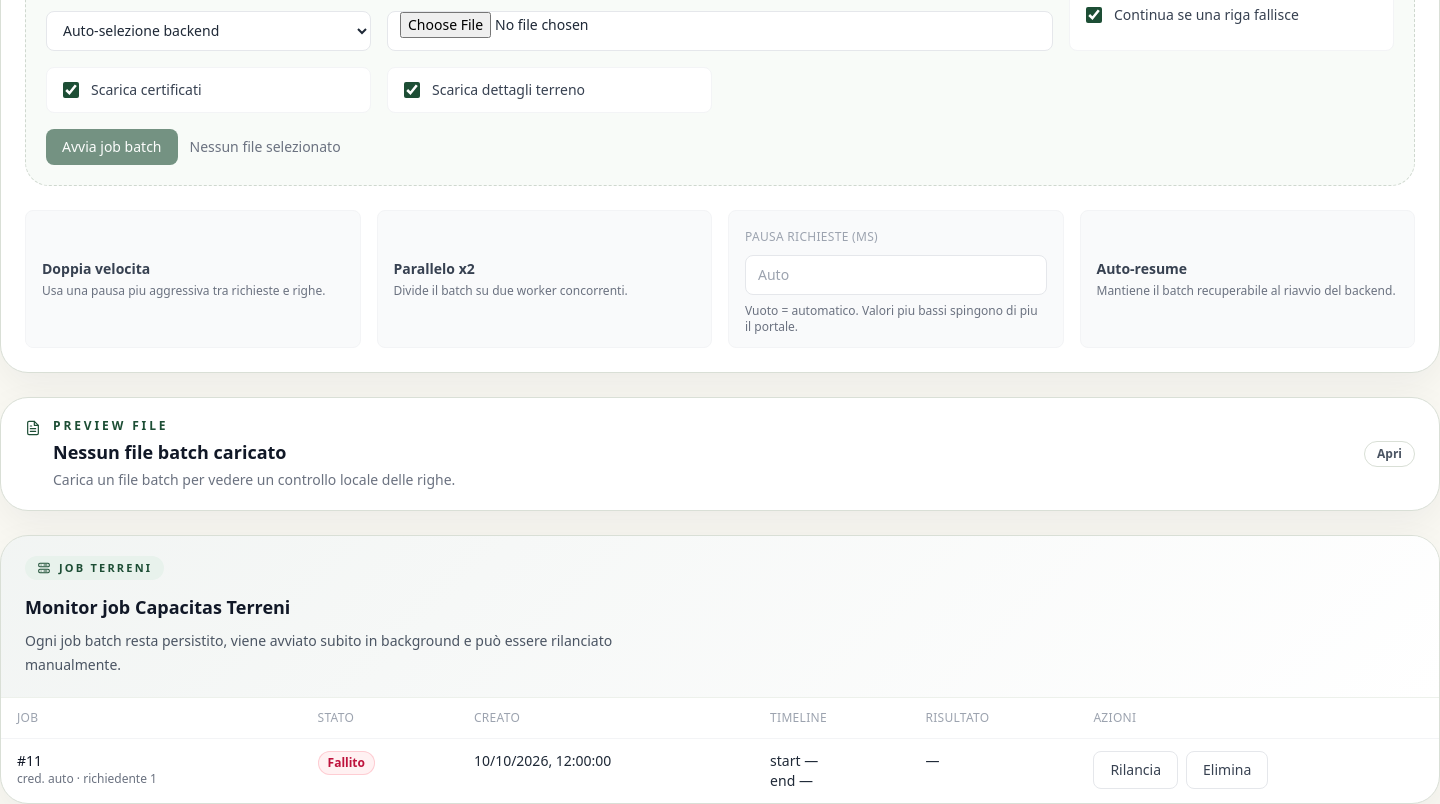
R21 public terreni action presentation › remove reads the retained API job ID at click time, not render time
(page scrolled)
Expected: the button "Rilancia" is enabled, x1=1093 y1=751 x2=1178 y2=789
Click the button "Elimina".
click(1227, 770)  # box x1=1186 y1=751 x2=1268 y2=789
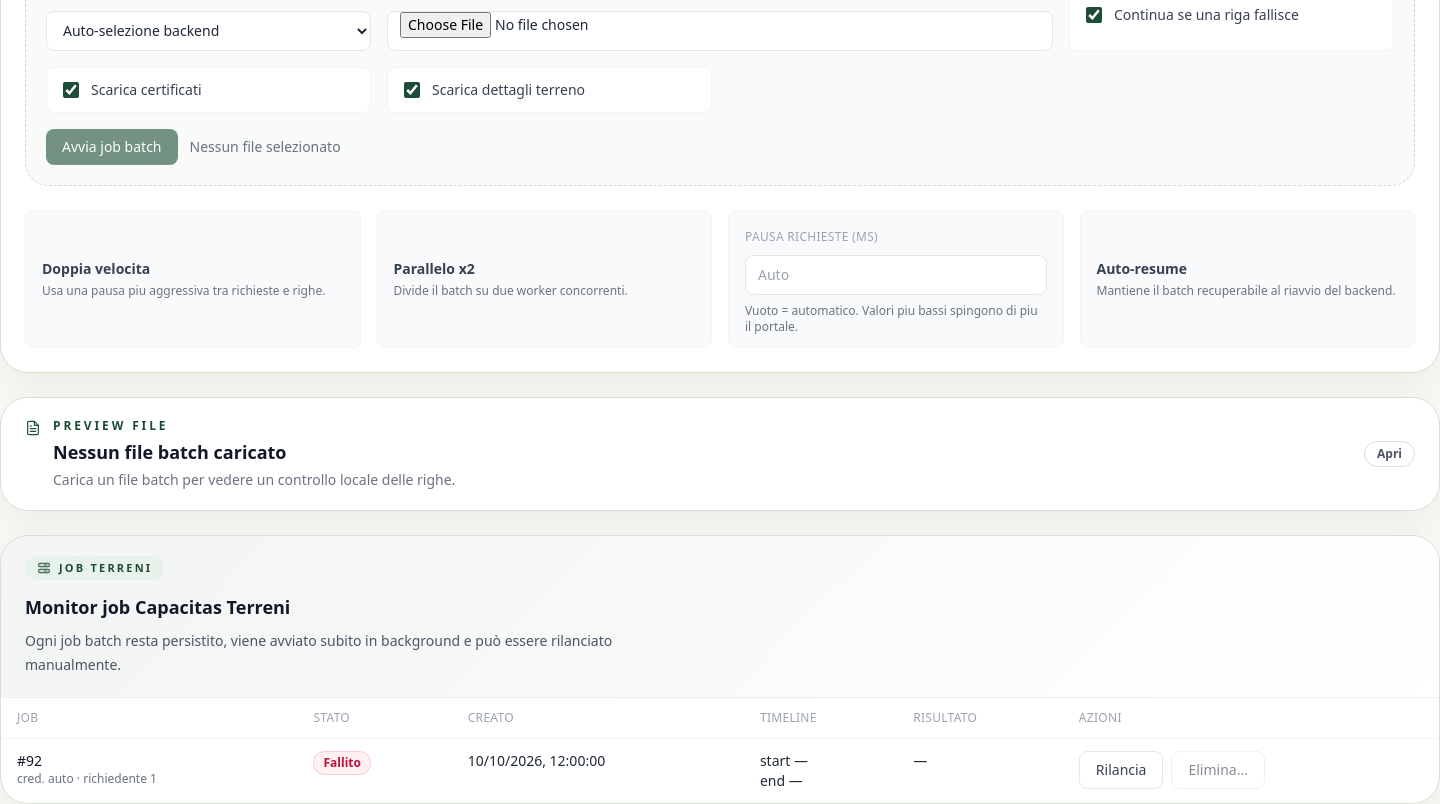
Now the button "Elimina..." is disabled, box x1=1172 y1=751 x2=1265 y2=789
